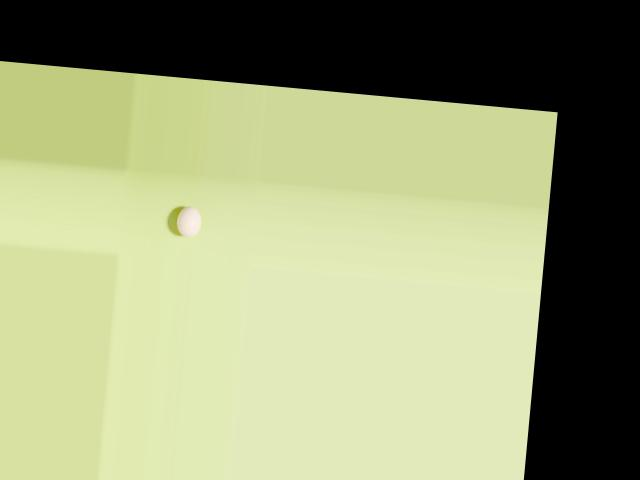egg: (175, 204, 201, 237)
